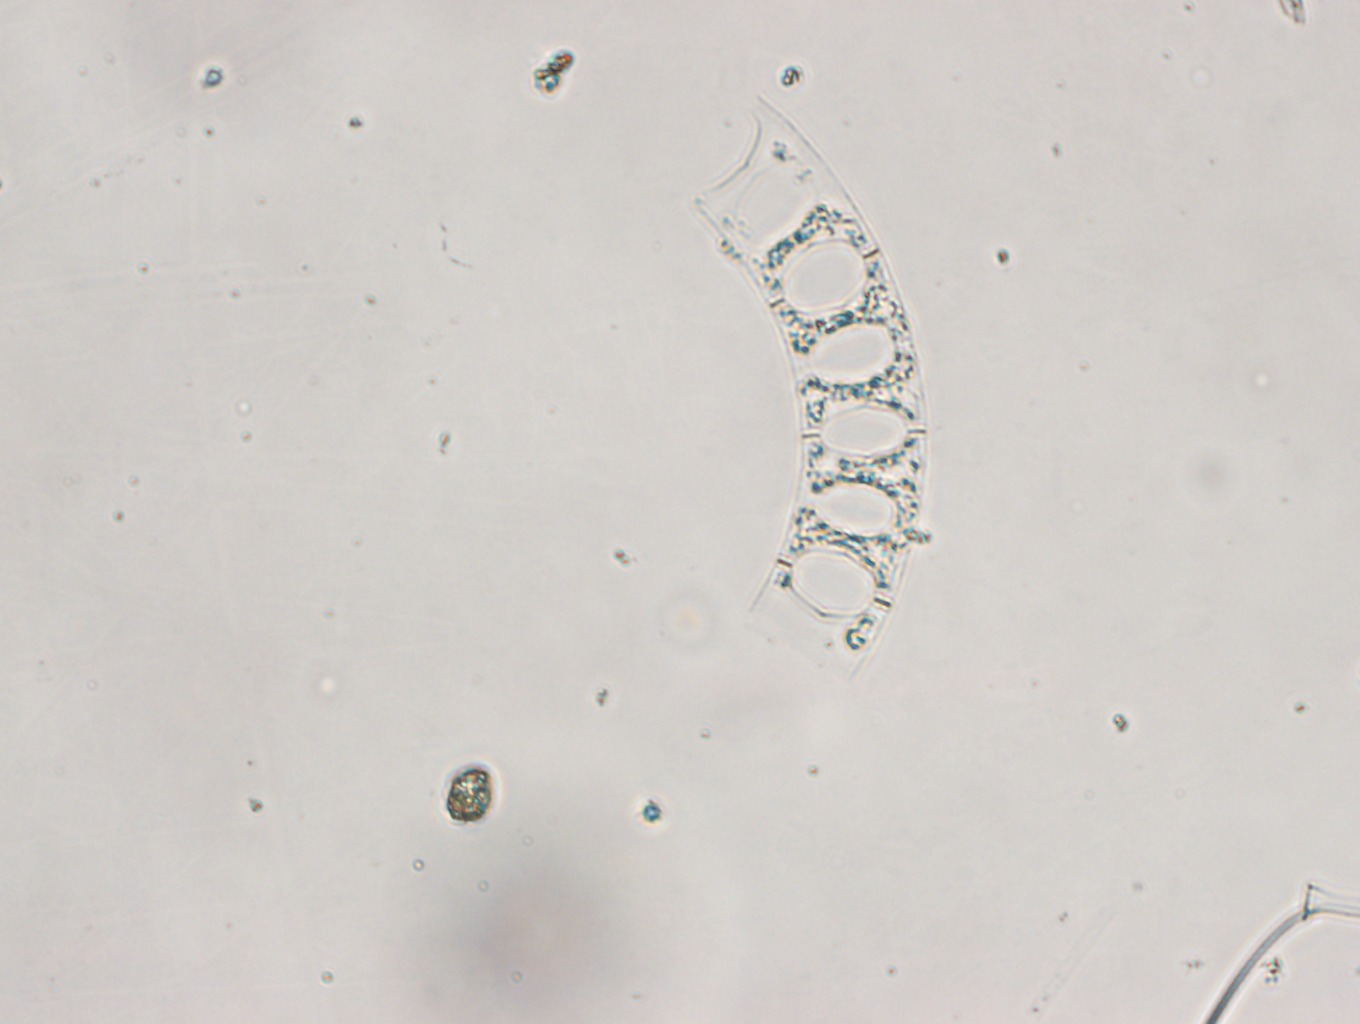eucampia: (696, 93, 928, 680)
